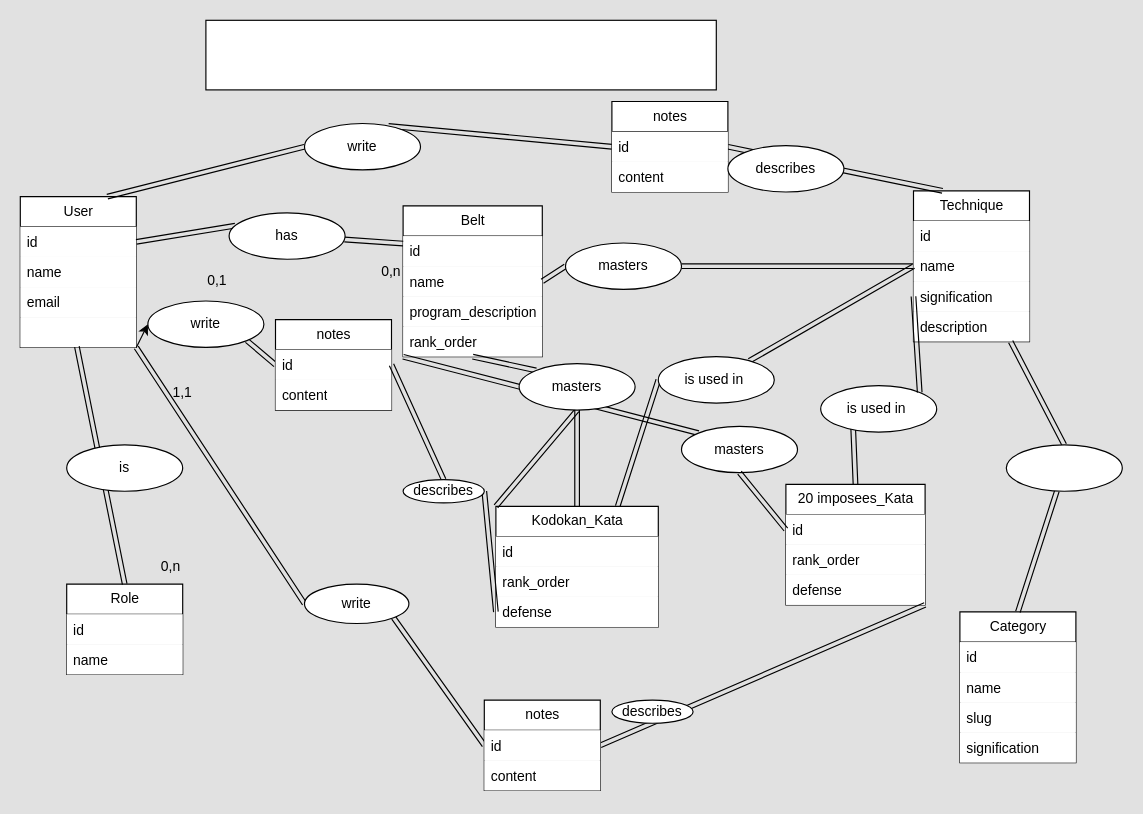
Some shapes in this 1143 by 814 pixel diagram are drawn without their labels. Here are the shapes that lost their labels. From the top down, the centre of each, then its label:
At point 460,54: "MCD : modèle conceptuel de données".
At point 78,332: "password".
At point 1063,467: "belongs to".
